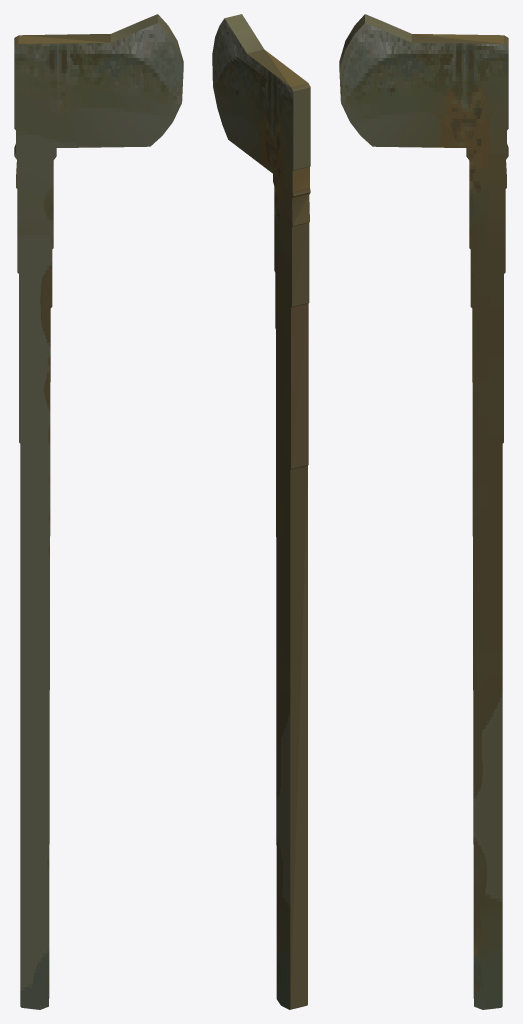
Rendered from alabarda.glb.
3 views of the same model, side by side, from view 1: azimuth 90°, elevation 25°; view 2: azimuth 210°, elevation 25°; view 3: azimuth 270°, elevation 25° (orthographic). The views are drawn at different scales.
Visible parts, largest first — view 1: arma.larga.alabarda; view 2: arma.larga.alabarda; view 3: arma.larga.alabarda.
Part boxes in pixels (bbox=[...]): arma.larga.alabarda: bbox=[14, 14, 183, 1009]; arma.larga.alabarda: bbox=[212, 14, 310, 1009]; arma.larga.alabarda: bbox=[339, 14, 508, 1009].
Bounding box in the file's own units: 0.0425 × 2.2 × 0.3422.
Materials: 1 (1 with a texture image).
